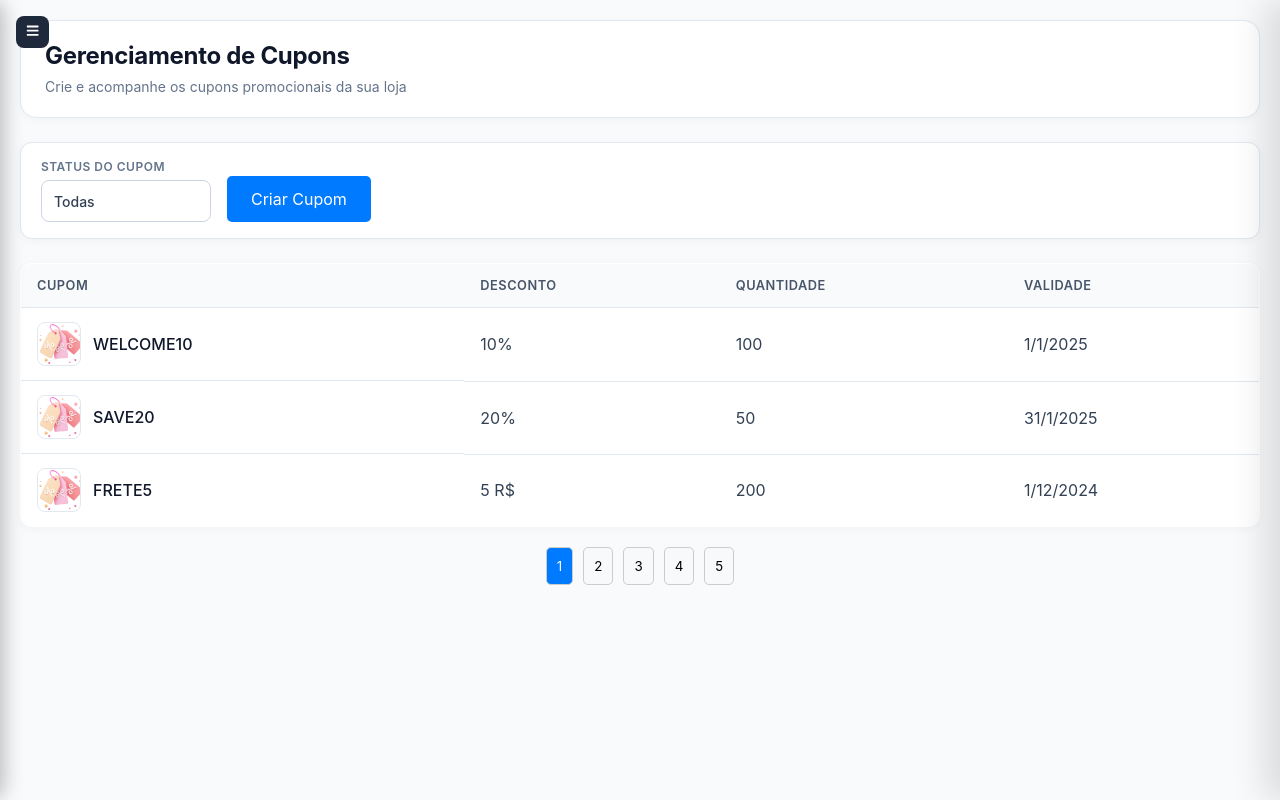
Test case: store coupons › should close the sidebar when the drawer opens, and close the drawer when the sidebar opens
The image size is (1280, 800).
Expected: the button named "open menu" is shown, [16,16,49,48]
Click the button "Criar Cupom".
click(299, 199)  # box [227,176,371,222]
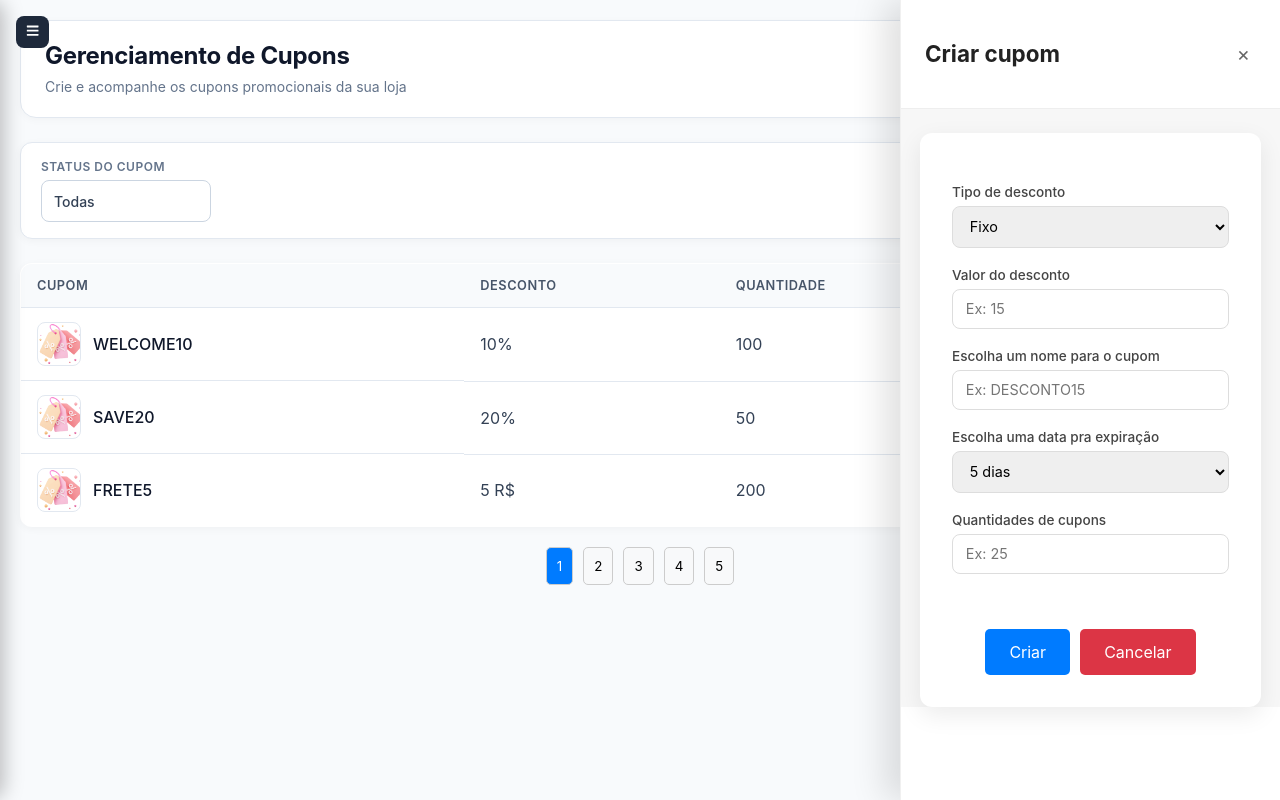
Expected: the dialog "Criar cupom" is shown, [900,0,1279,799]
Click the button named "open menu".
click(33, 32)  # box [16,16,49,48]
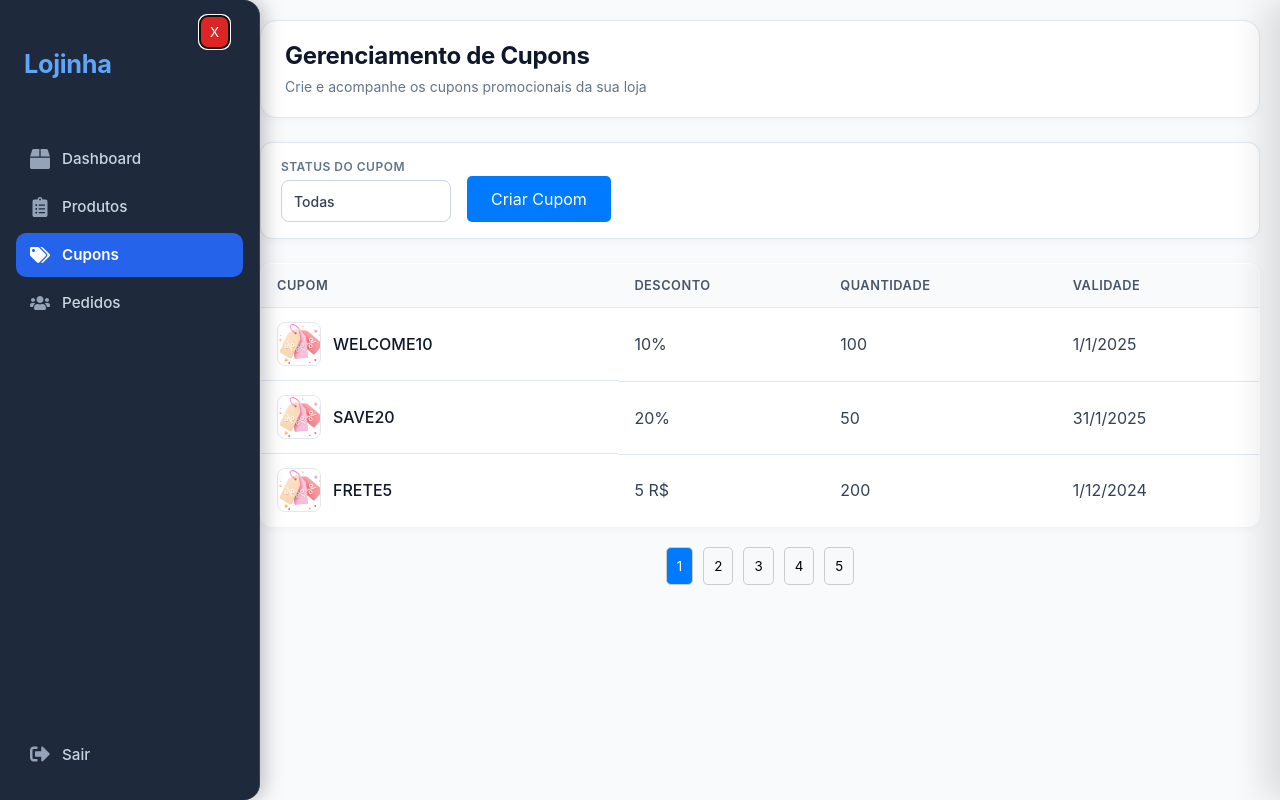
Result: the button named "close menu" is shown at [200,16,229,48]
